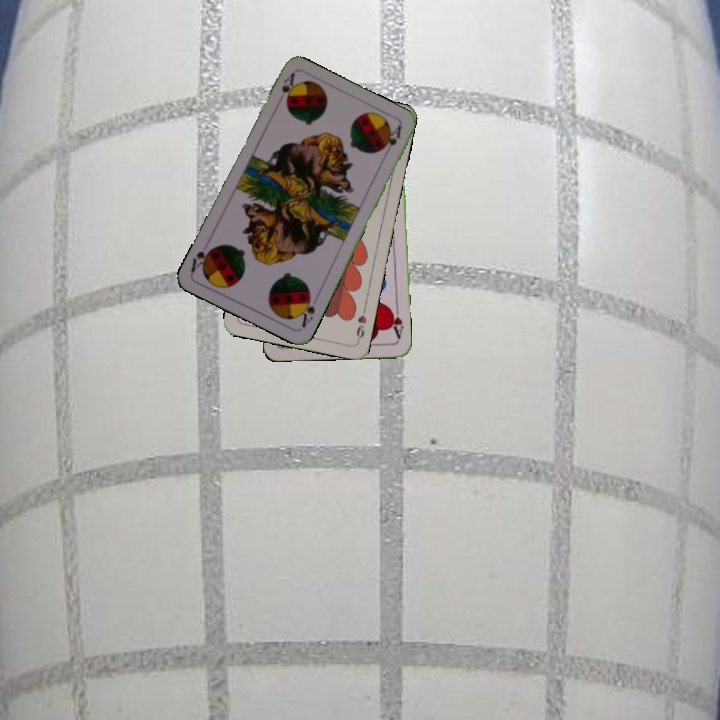H9: (352, 304, 369, 344)
HA: (386, 302, 407, 341)
SA: (295, 289, 321, 330), (273, 69, 297, 107)
